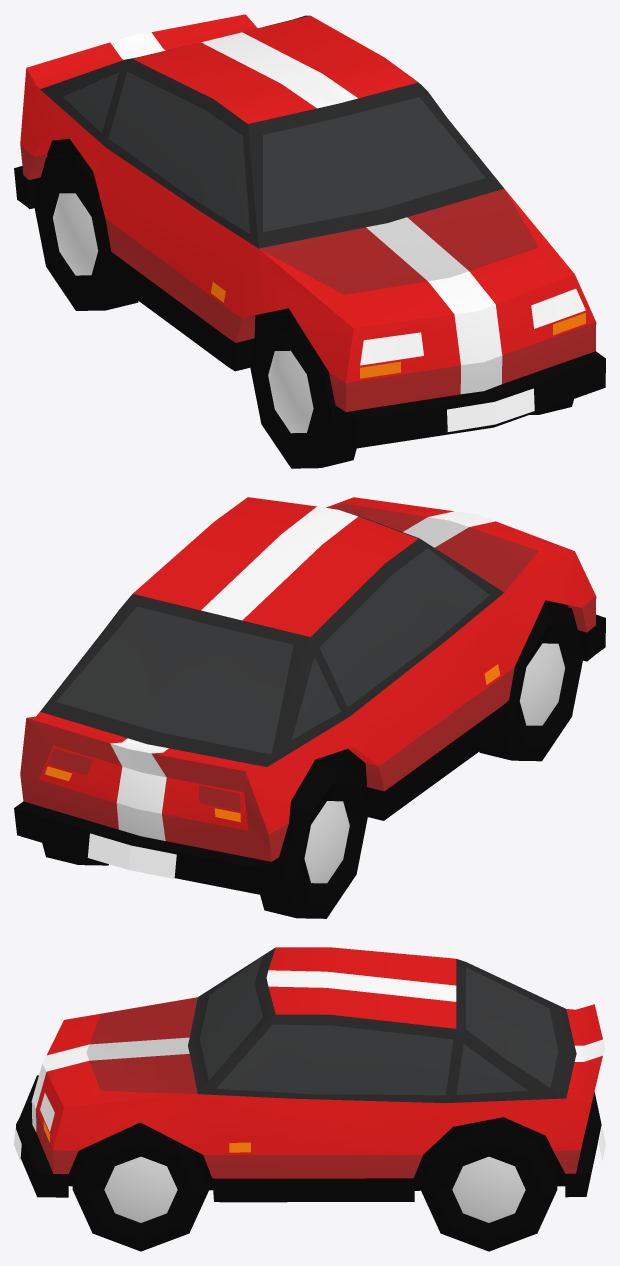
The model's file is sedan_red_with_white_stripe.glb.
The picture shows the model from 3 angles, top to bottom: view 1: azimuth 30°, elevation 25°; view 2: azimuth 150°, elevation 25°; view 3: azimuth 270°, elevation 25°; orthographic projection. The views are drawn at different scales.
Visible parts, largest first — view 1: Object_14; view 2: Object_14; view 3: Object_14.
Boxes of the visible parts, <box> form: Object_14: <box>14,14,605,468</box>; Object_14: <box>14,497,605,918</box>; Object_14: <box>14,947,605,1251</box>.
Size of the model in its own units: 2.47 by 2.37 by 5.68.
1 material, 1 textured.
